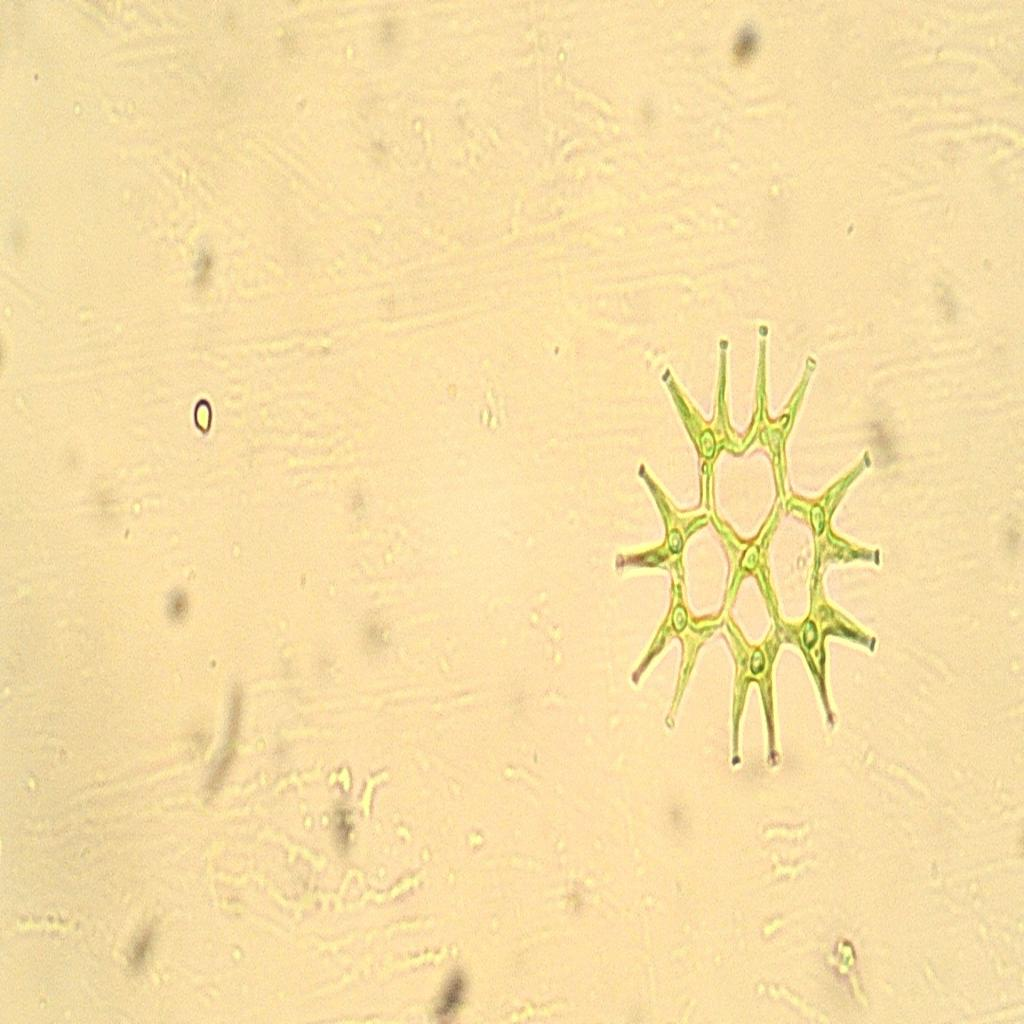Pediastrum_CTH: (585, 304, 901, 794)
